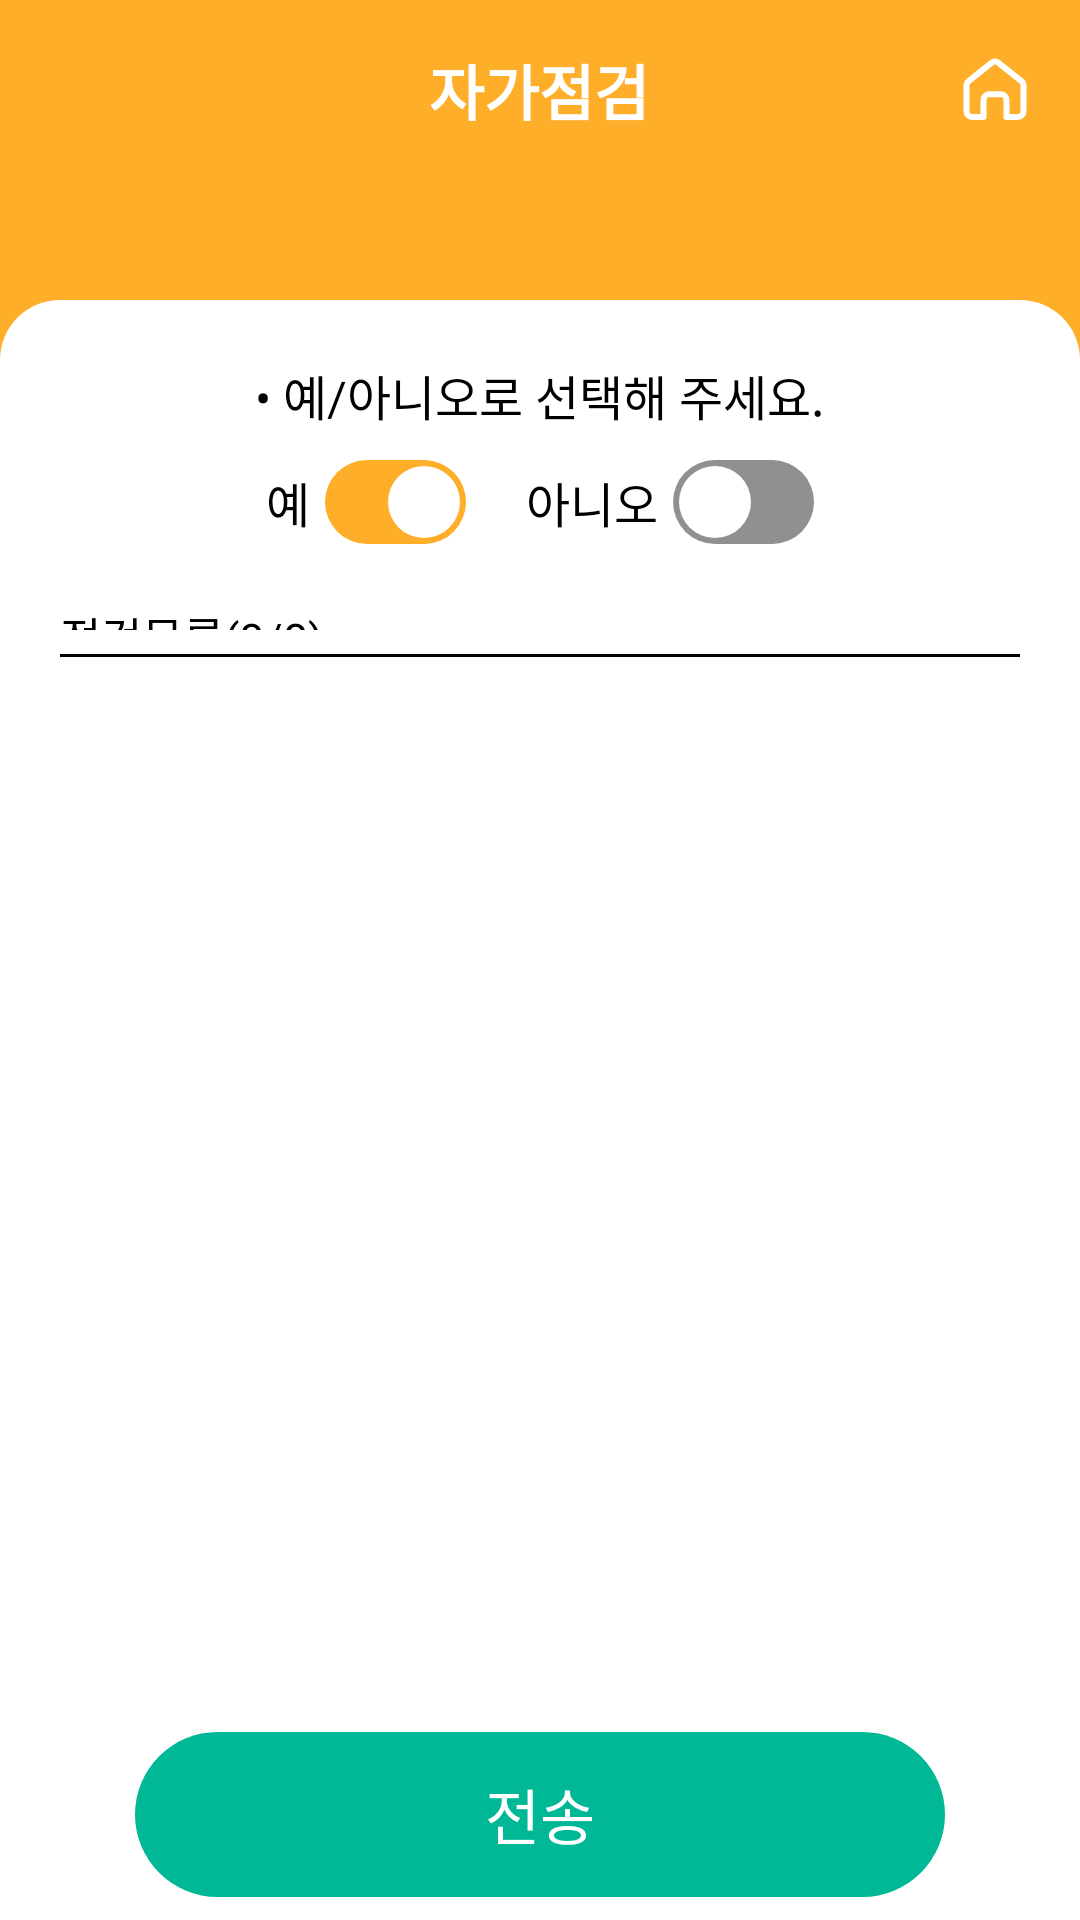

Named icons in this screenshot (1080w x 1920h) and their centers, (x,y):
btnhome: (995,89)
